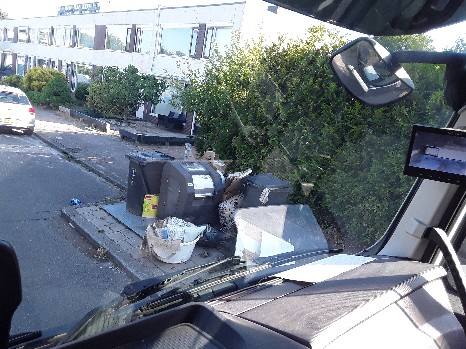Container: (166, 152, 215, 215)
Rest: (228, 167, 285, 216), (150, 217, 195, 263), (228, 224, 275, 264), (134, 150, 160, 210)
Voertuig: (1, 82, 37, 131)
